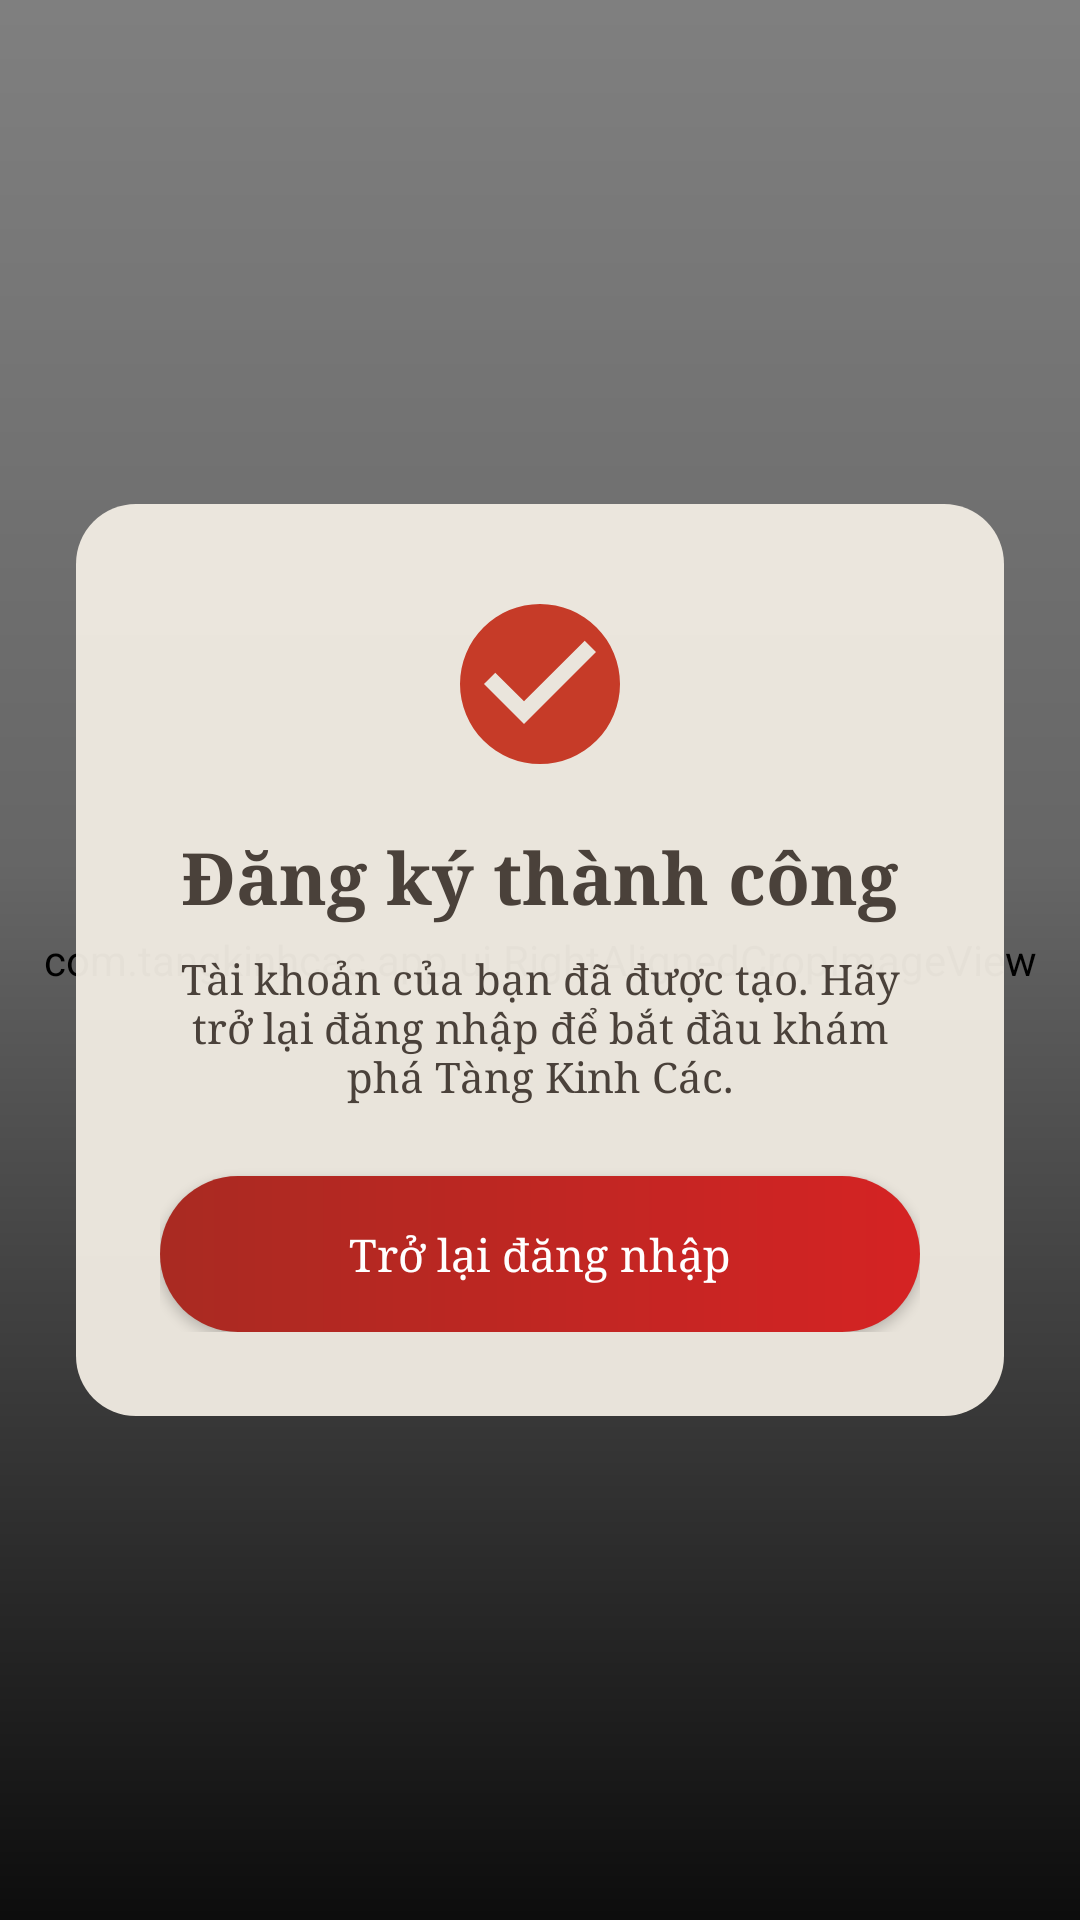

Icons on this 1080w x 1920h Android screen, each with the point to tap as [x,y]:
registration success: [540,684]
